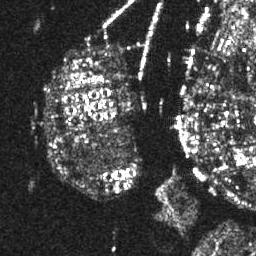ship: (192, 165, 207, 182), (198, 6, 211, 22), (186, 55, 194, 68), (208, 185, 218, 195), (179, 83, 187, 95), (183, 22, 191, 29), (141, 101, 147, 109)
